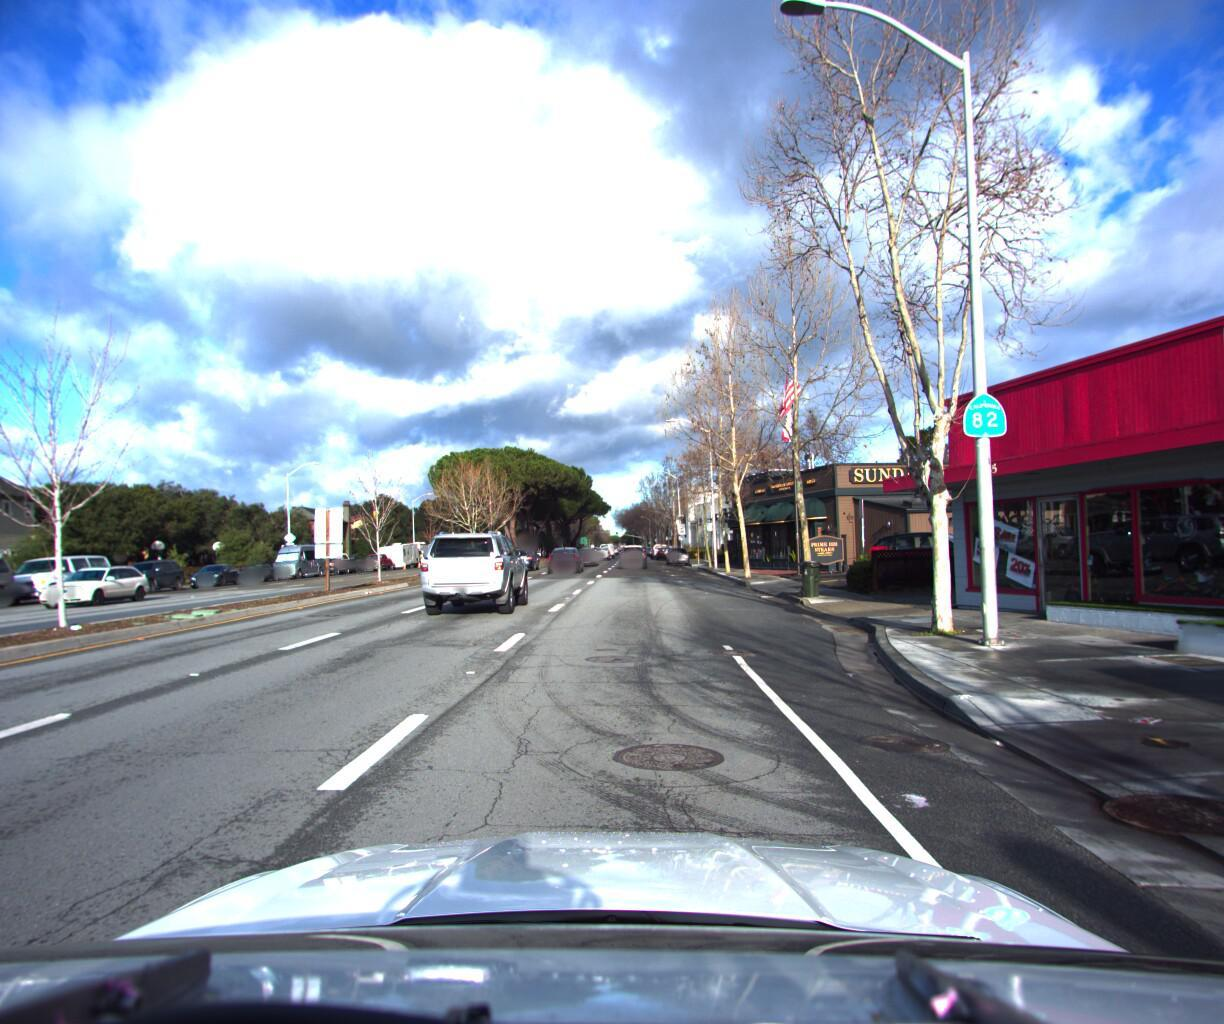car: (411, 525, 534, 619), (857, 523, 1011, 577), (29, 561, 160, 608), (103, 554, 193, 593), (264, 536, 333, 577), (184, 559, 247, 586), (230, 557, 287, 580), (309, 547, 354, 573), (545, 543, 585, 570), (504, 542, 542, 567), (358, 547, 396, 567), (617, 539, 647, 564), (665, 539, 690, 560), (572, 546, 599, 566), (589, 539, 610, 554)
